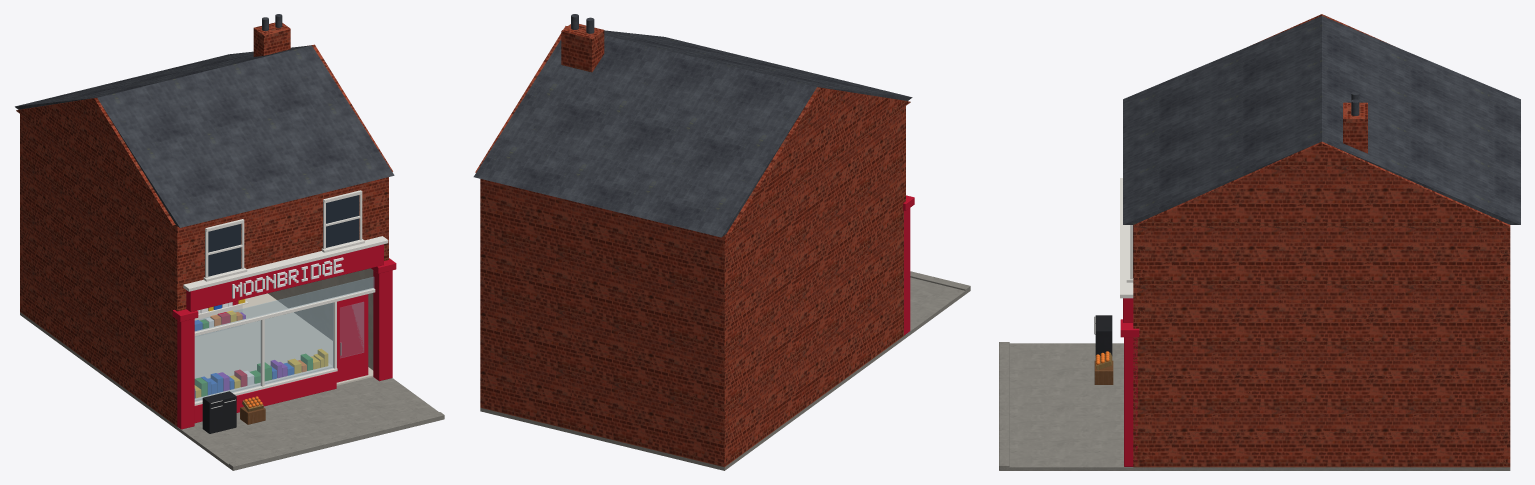
Rendered from region_town_shop.glb.
3 views of the same model, side by side, from view 1: azimuth 30°, elevation 25°; view 2: azimuth 150°, elevation 25°; view 3: azimuth 270°, elevation 25° (orthographic). The views are drawn at different scales.
Visible parts, largest first — view 1: shop; view 2: shop; view 3: shop.
Boxes of the visible parts, left/top/right/bottom form: shop: left=15, top=14, right=444, bottom=470; shop: left=473, top=14, right=970, bottom=470; shop: left=999, top=14, right=1520, bottom=470.
Size of the model in its own units: 7.3 by 9.47 by 12.45.
Materials: 23 (9 with a texture image).
